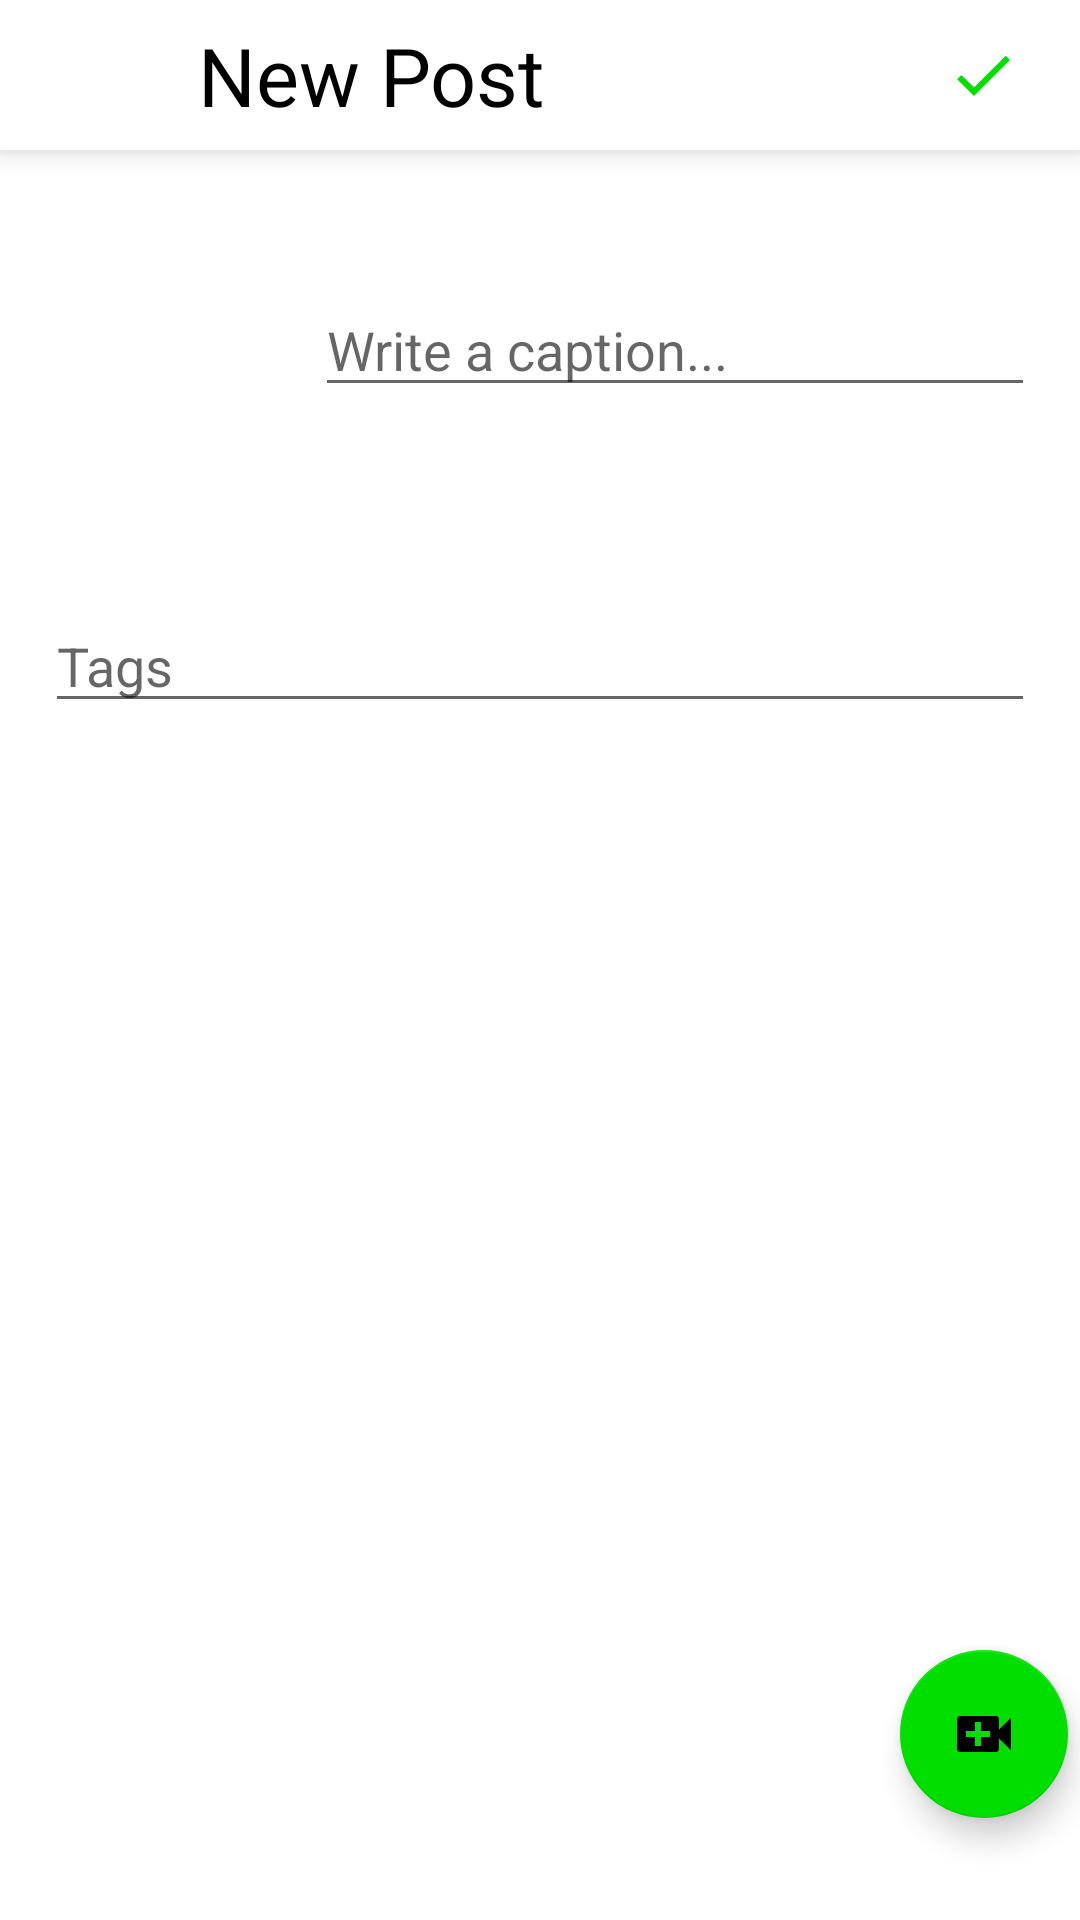

Named icons in this screenshot (1080×1920) and their centers, point (x, y):
done: point (983, 76)
video call: point (984, 1734)
